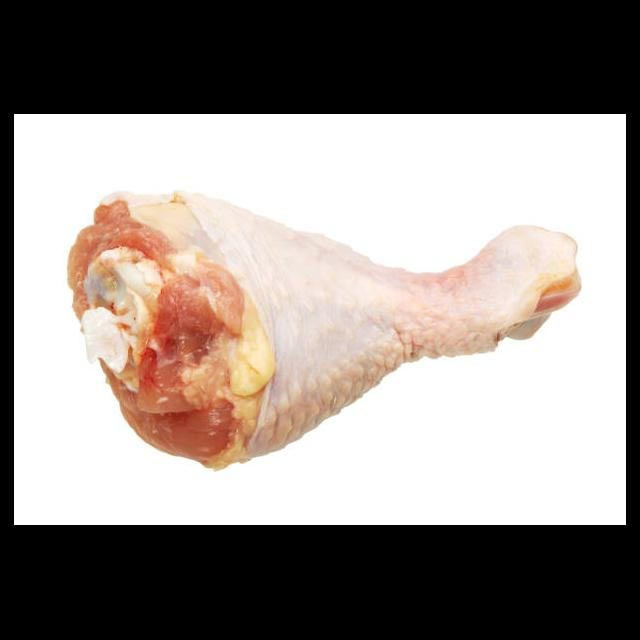chicken: (67, 186, 581, 476)
